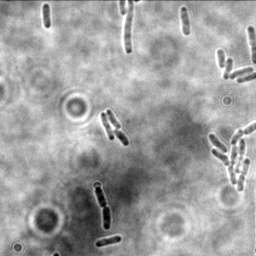Dividing: (94, 186, 112, 231)
Microcolony: (206, 119, 255, 193), (215, 49, 255, 85)
Rod: (122, 1, 134, 55), (99, 111, 116, 141), (179, 5, 192, 37), (94, 235, 123, 249), (41, 2, 53, 30), (106, 109, 122, 130), (115, 128, 130, 148)
